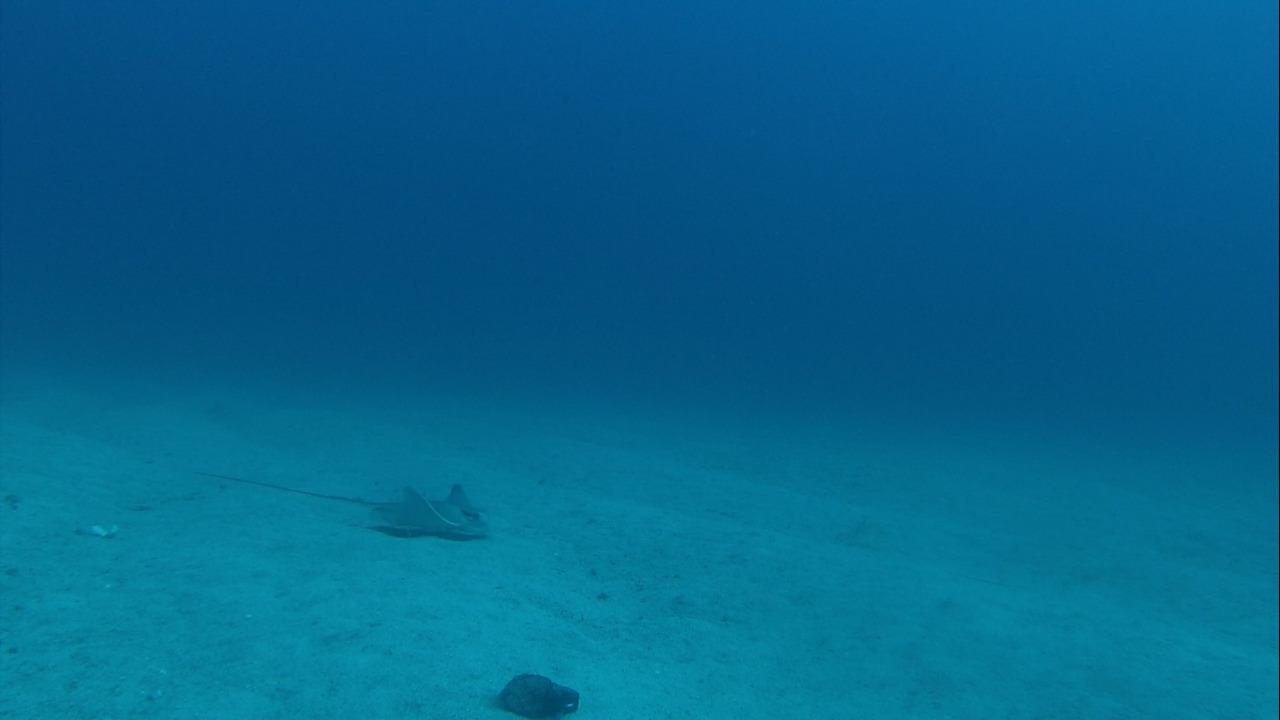myliobatis: (209, 467, 496, 546)
